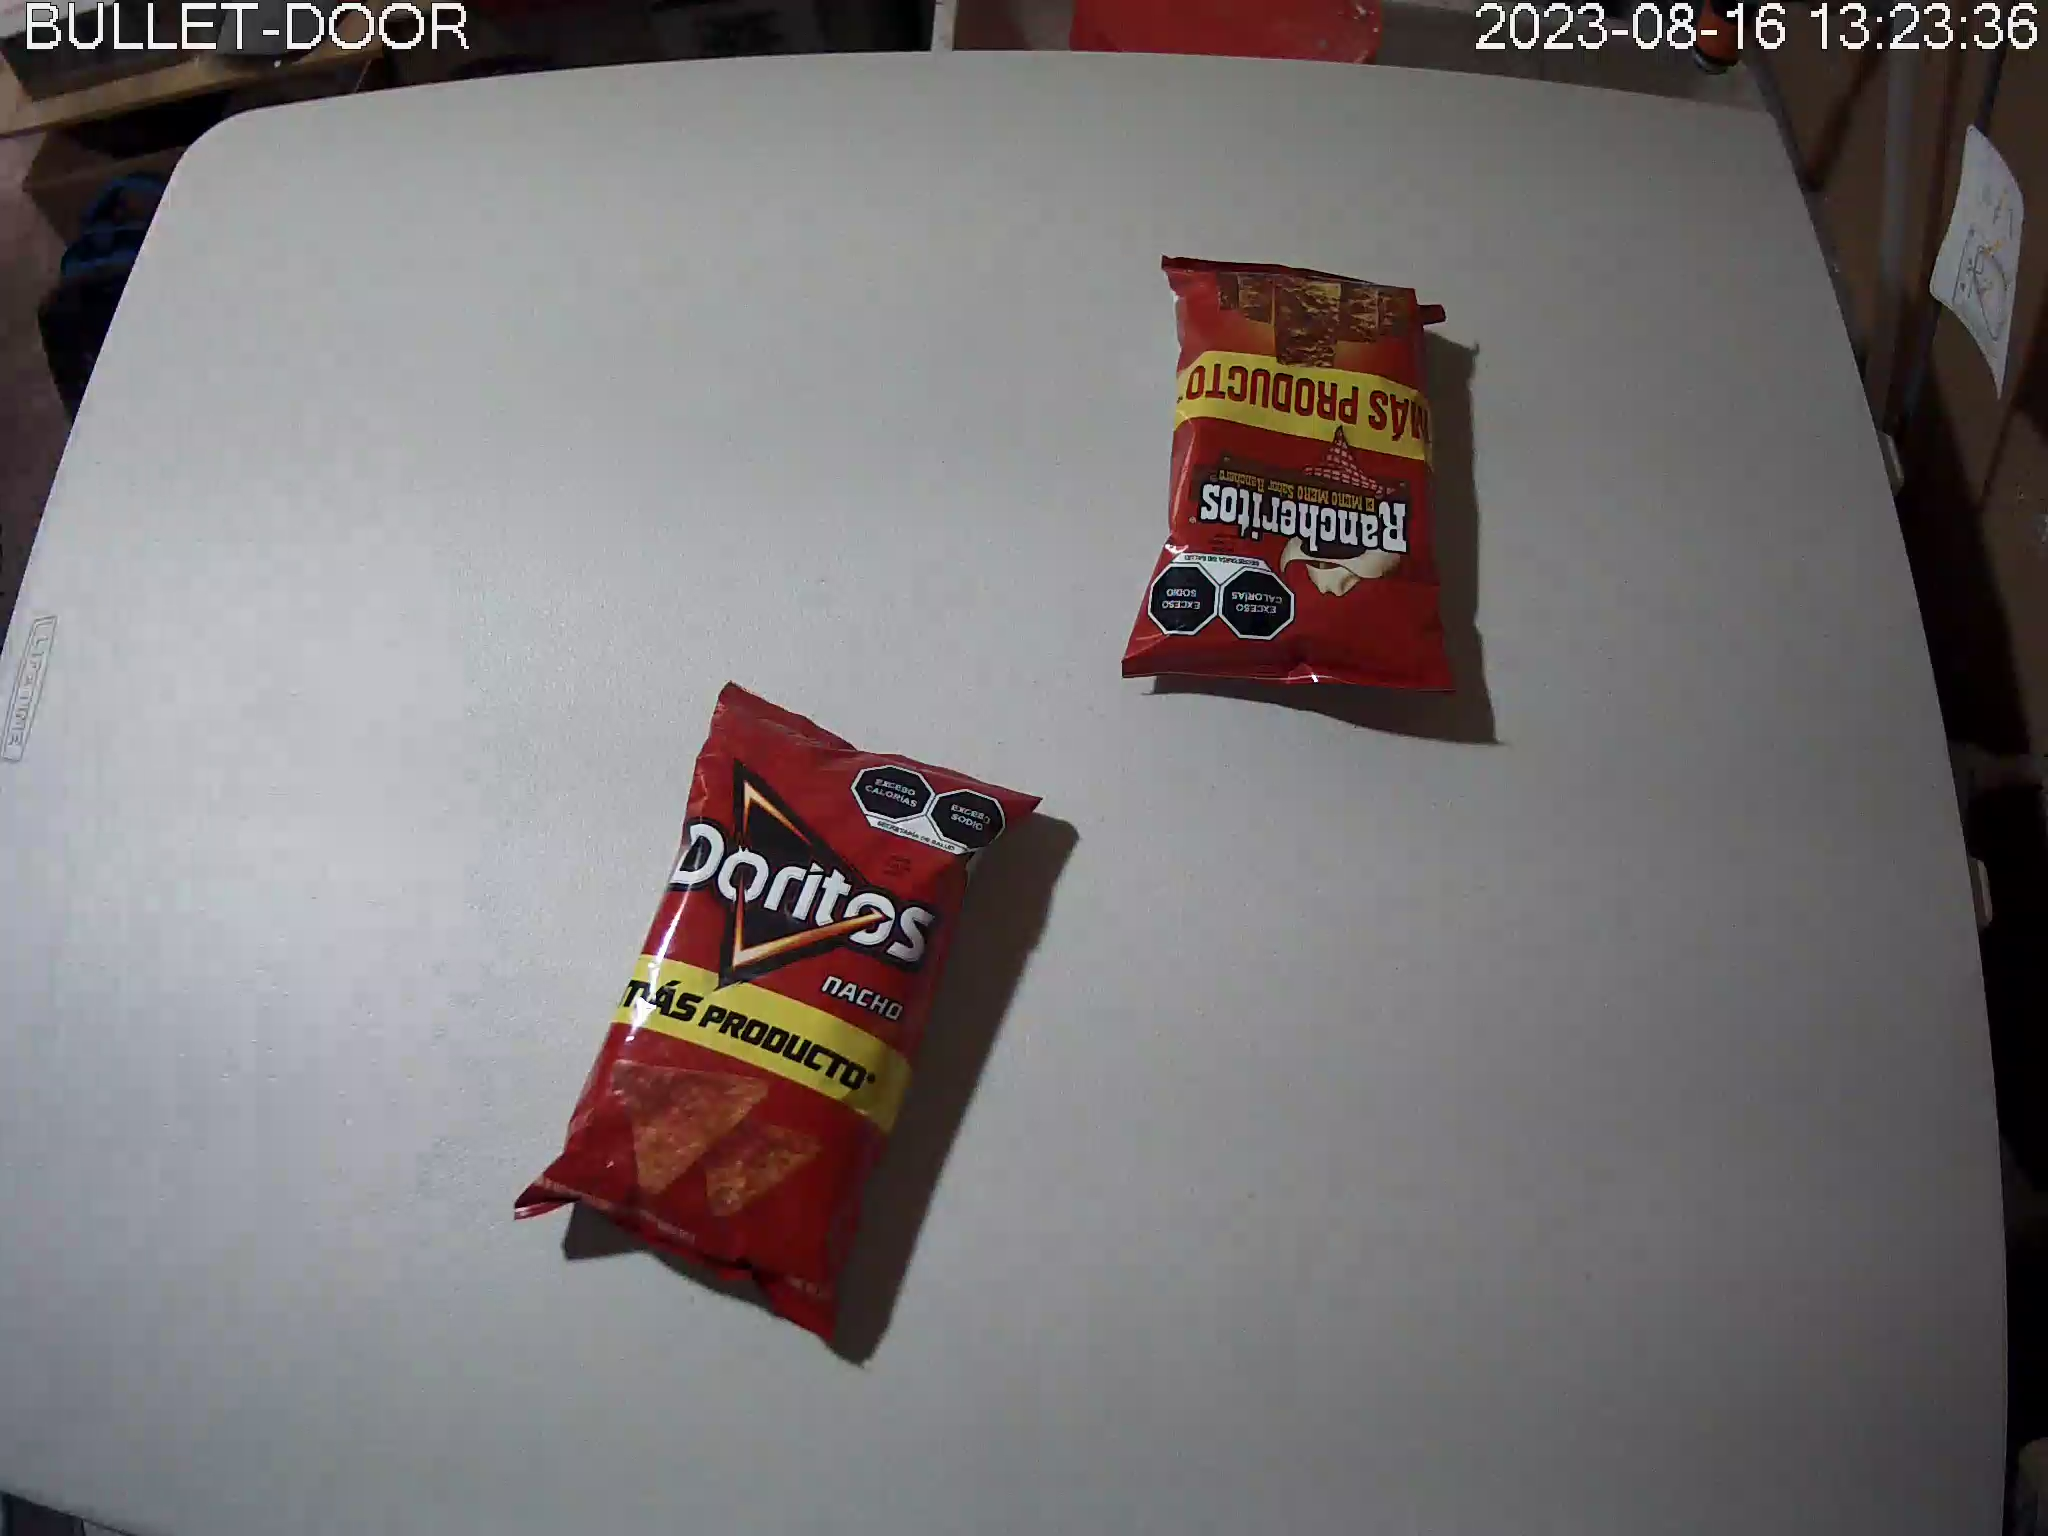DoritosN_61_F: (514, 678, 1047, 1352)
Rancheritos_58_F: (1121, 253, 1458, 699)
